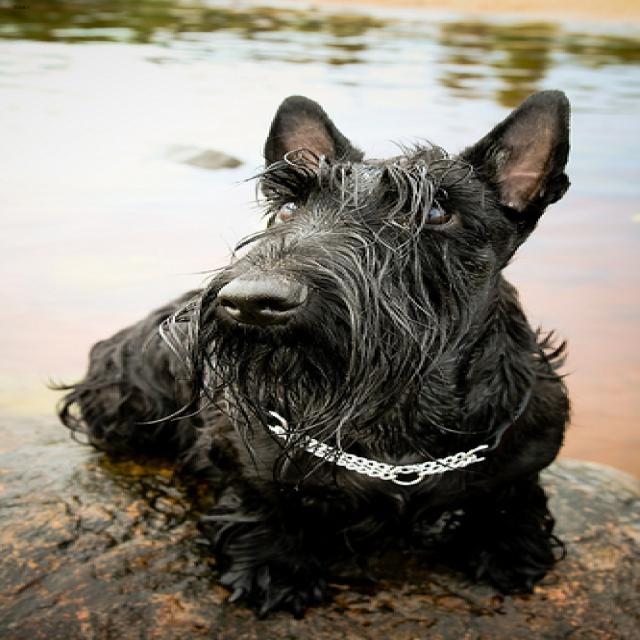dog-scottish_terrier: (42, 76, 592, 626)
